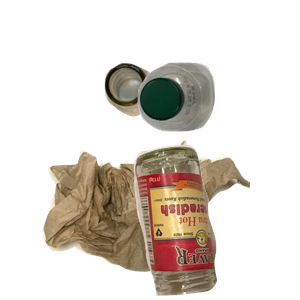glass: (131, 142, 300, 300)
metal: (102, 60, 252, 169)
plastic: (135, 60, 300, 184)
trash: (40, 138, 280, 300)
